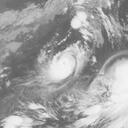cyclone: (48, 49, 83, 82), (113, 60, 127, 105)
